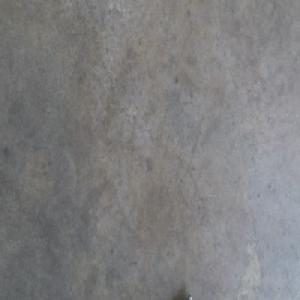Pliers: (183, 291, 194, 299)
